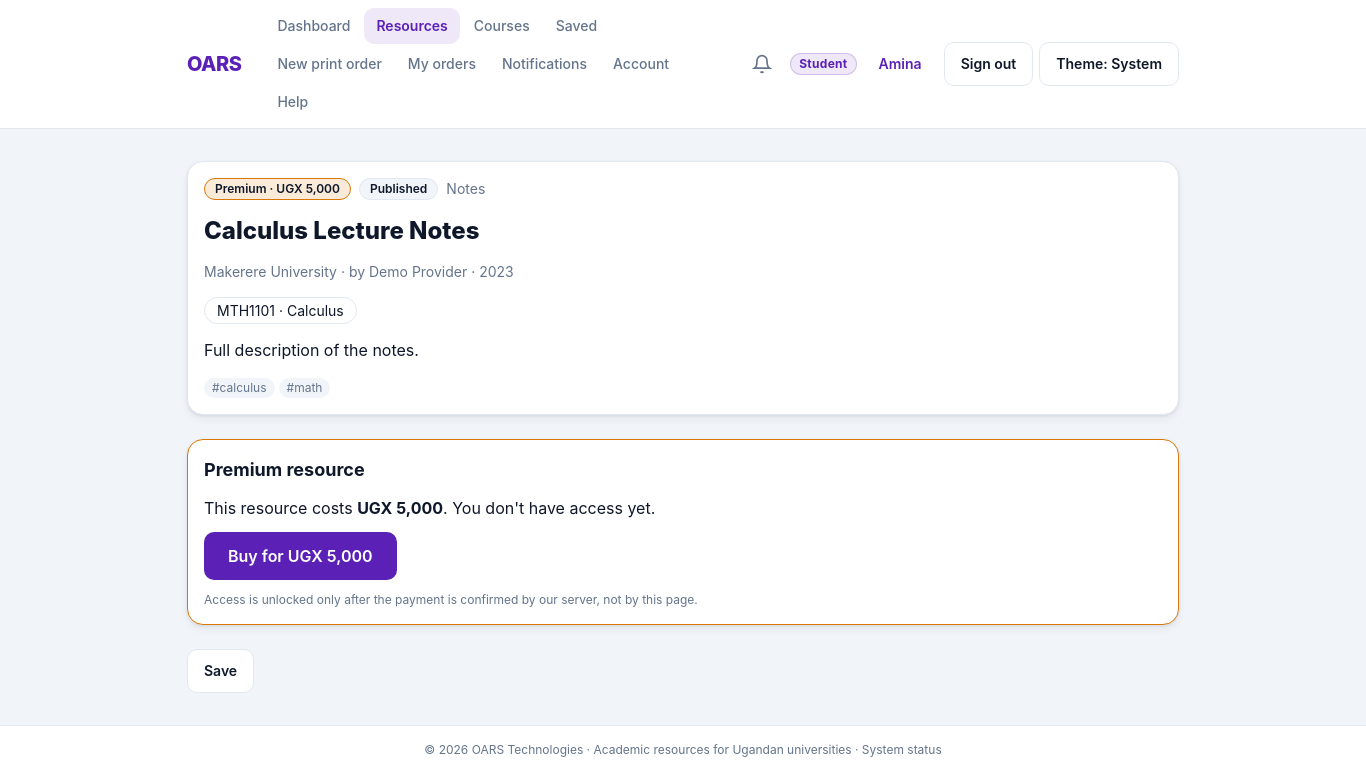
Scenario: buying a premium resource › offers a real Buy button when online payment is available and sends no amount
Click the button "Buy for UGX 5,000".
click(300, 556)  # box [204,532,397,580]
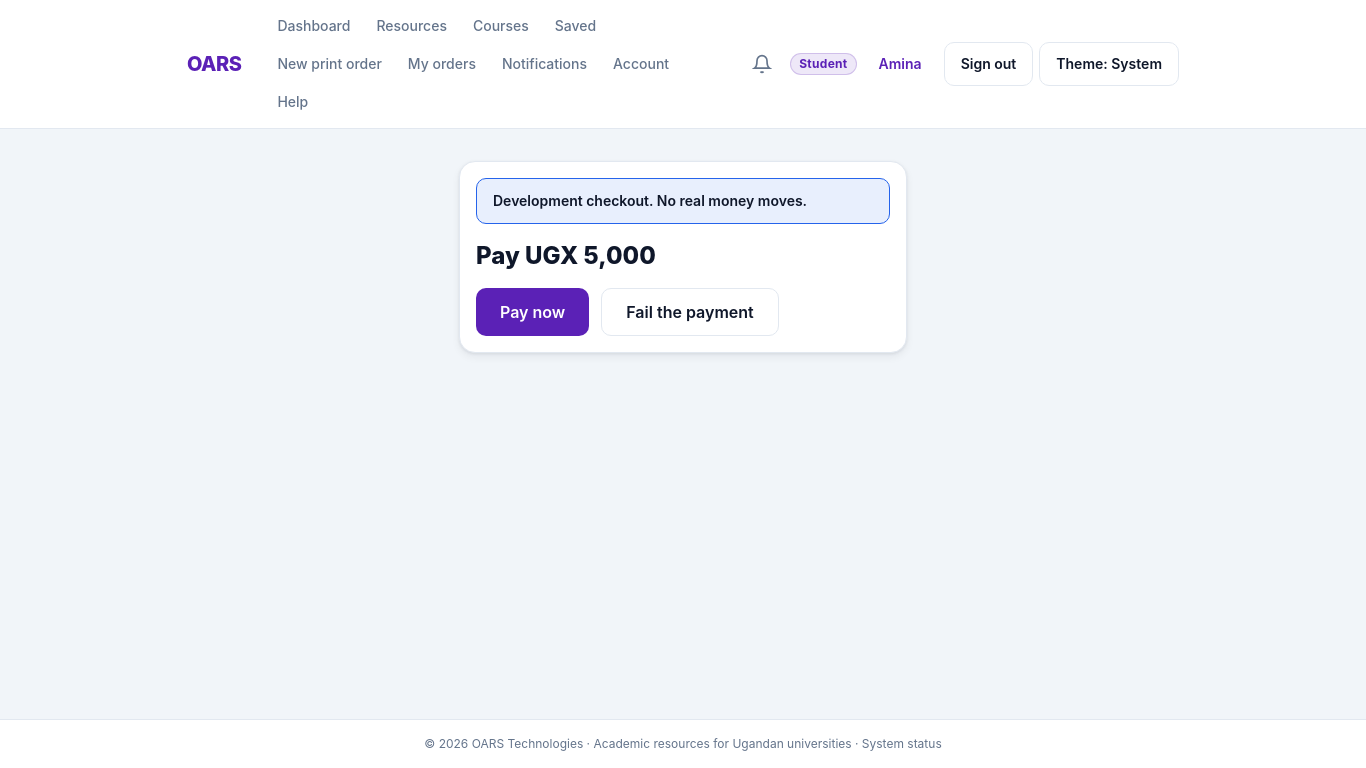
Check: the text "Development checkout. No real money moves." is shown, box [476,178,890,224]
